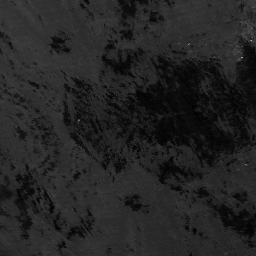Target: (76, 117, 82, 123)
